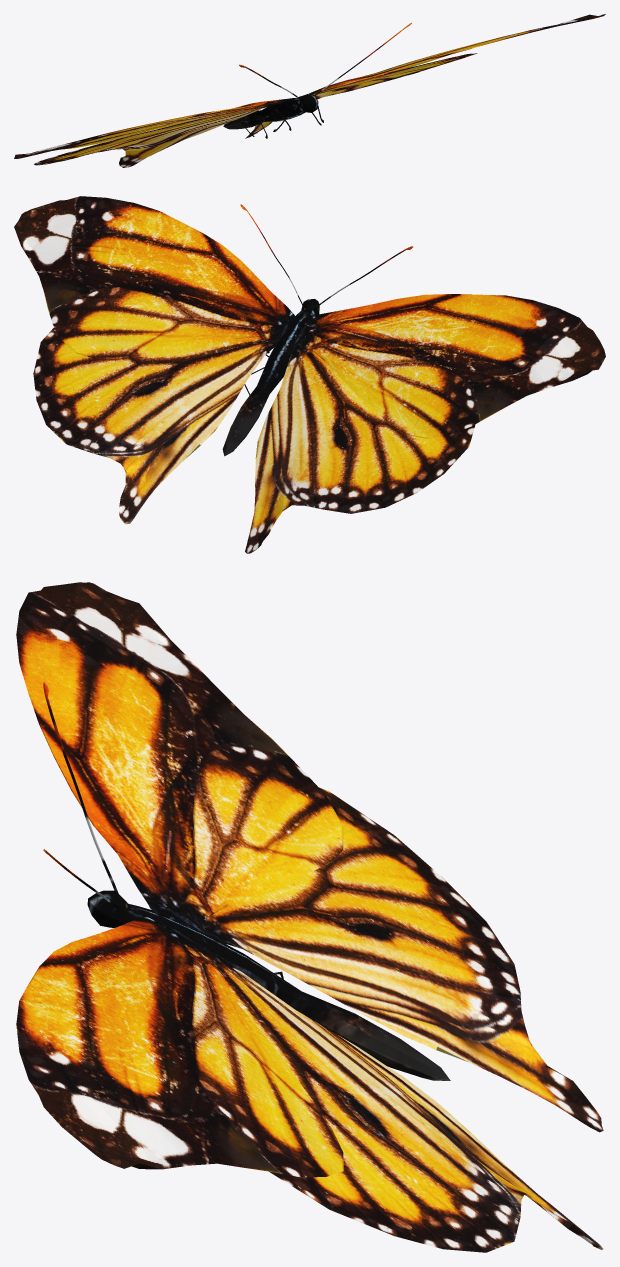
The model's file is butterfly.obj.
3 renders of one model, top to bottom at view 1: azimuth 30°, elevation 25°; view 2: azimuth 150°, elevation 25°; view 3: azimuth 270°, elevation 25°, orthographic. The views are drawn at different scales.
Visible parts, largest first — view 1: 1, 2, 0; view 2: 2, 1, 0; view 3: 2, 1, 0.
Boxes of the visible parts, x1,y1,x2,y2 form: 1: (34,53,477,167); 2: (14,14,605,158); 0: (223,22,411,138); 2: (14,196,605,439); 1: (33,327,475,553); 0: (222,204,413,456); 2: (16,582,343,1177); 1: (177,787,603,1252); 0: (43,682,450,1080).
Bounding box in the file's own units: 171 × 59.09 × 74.22.
